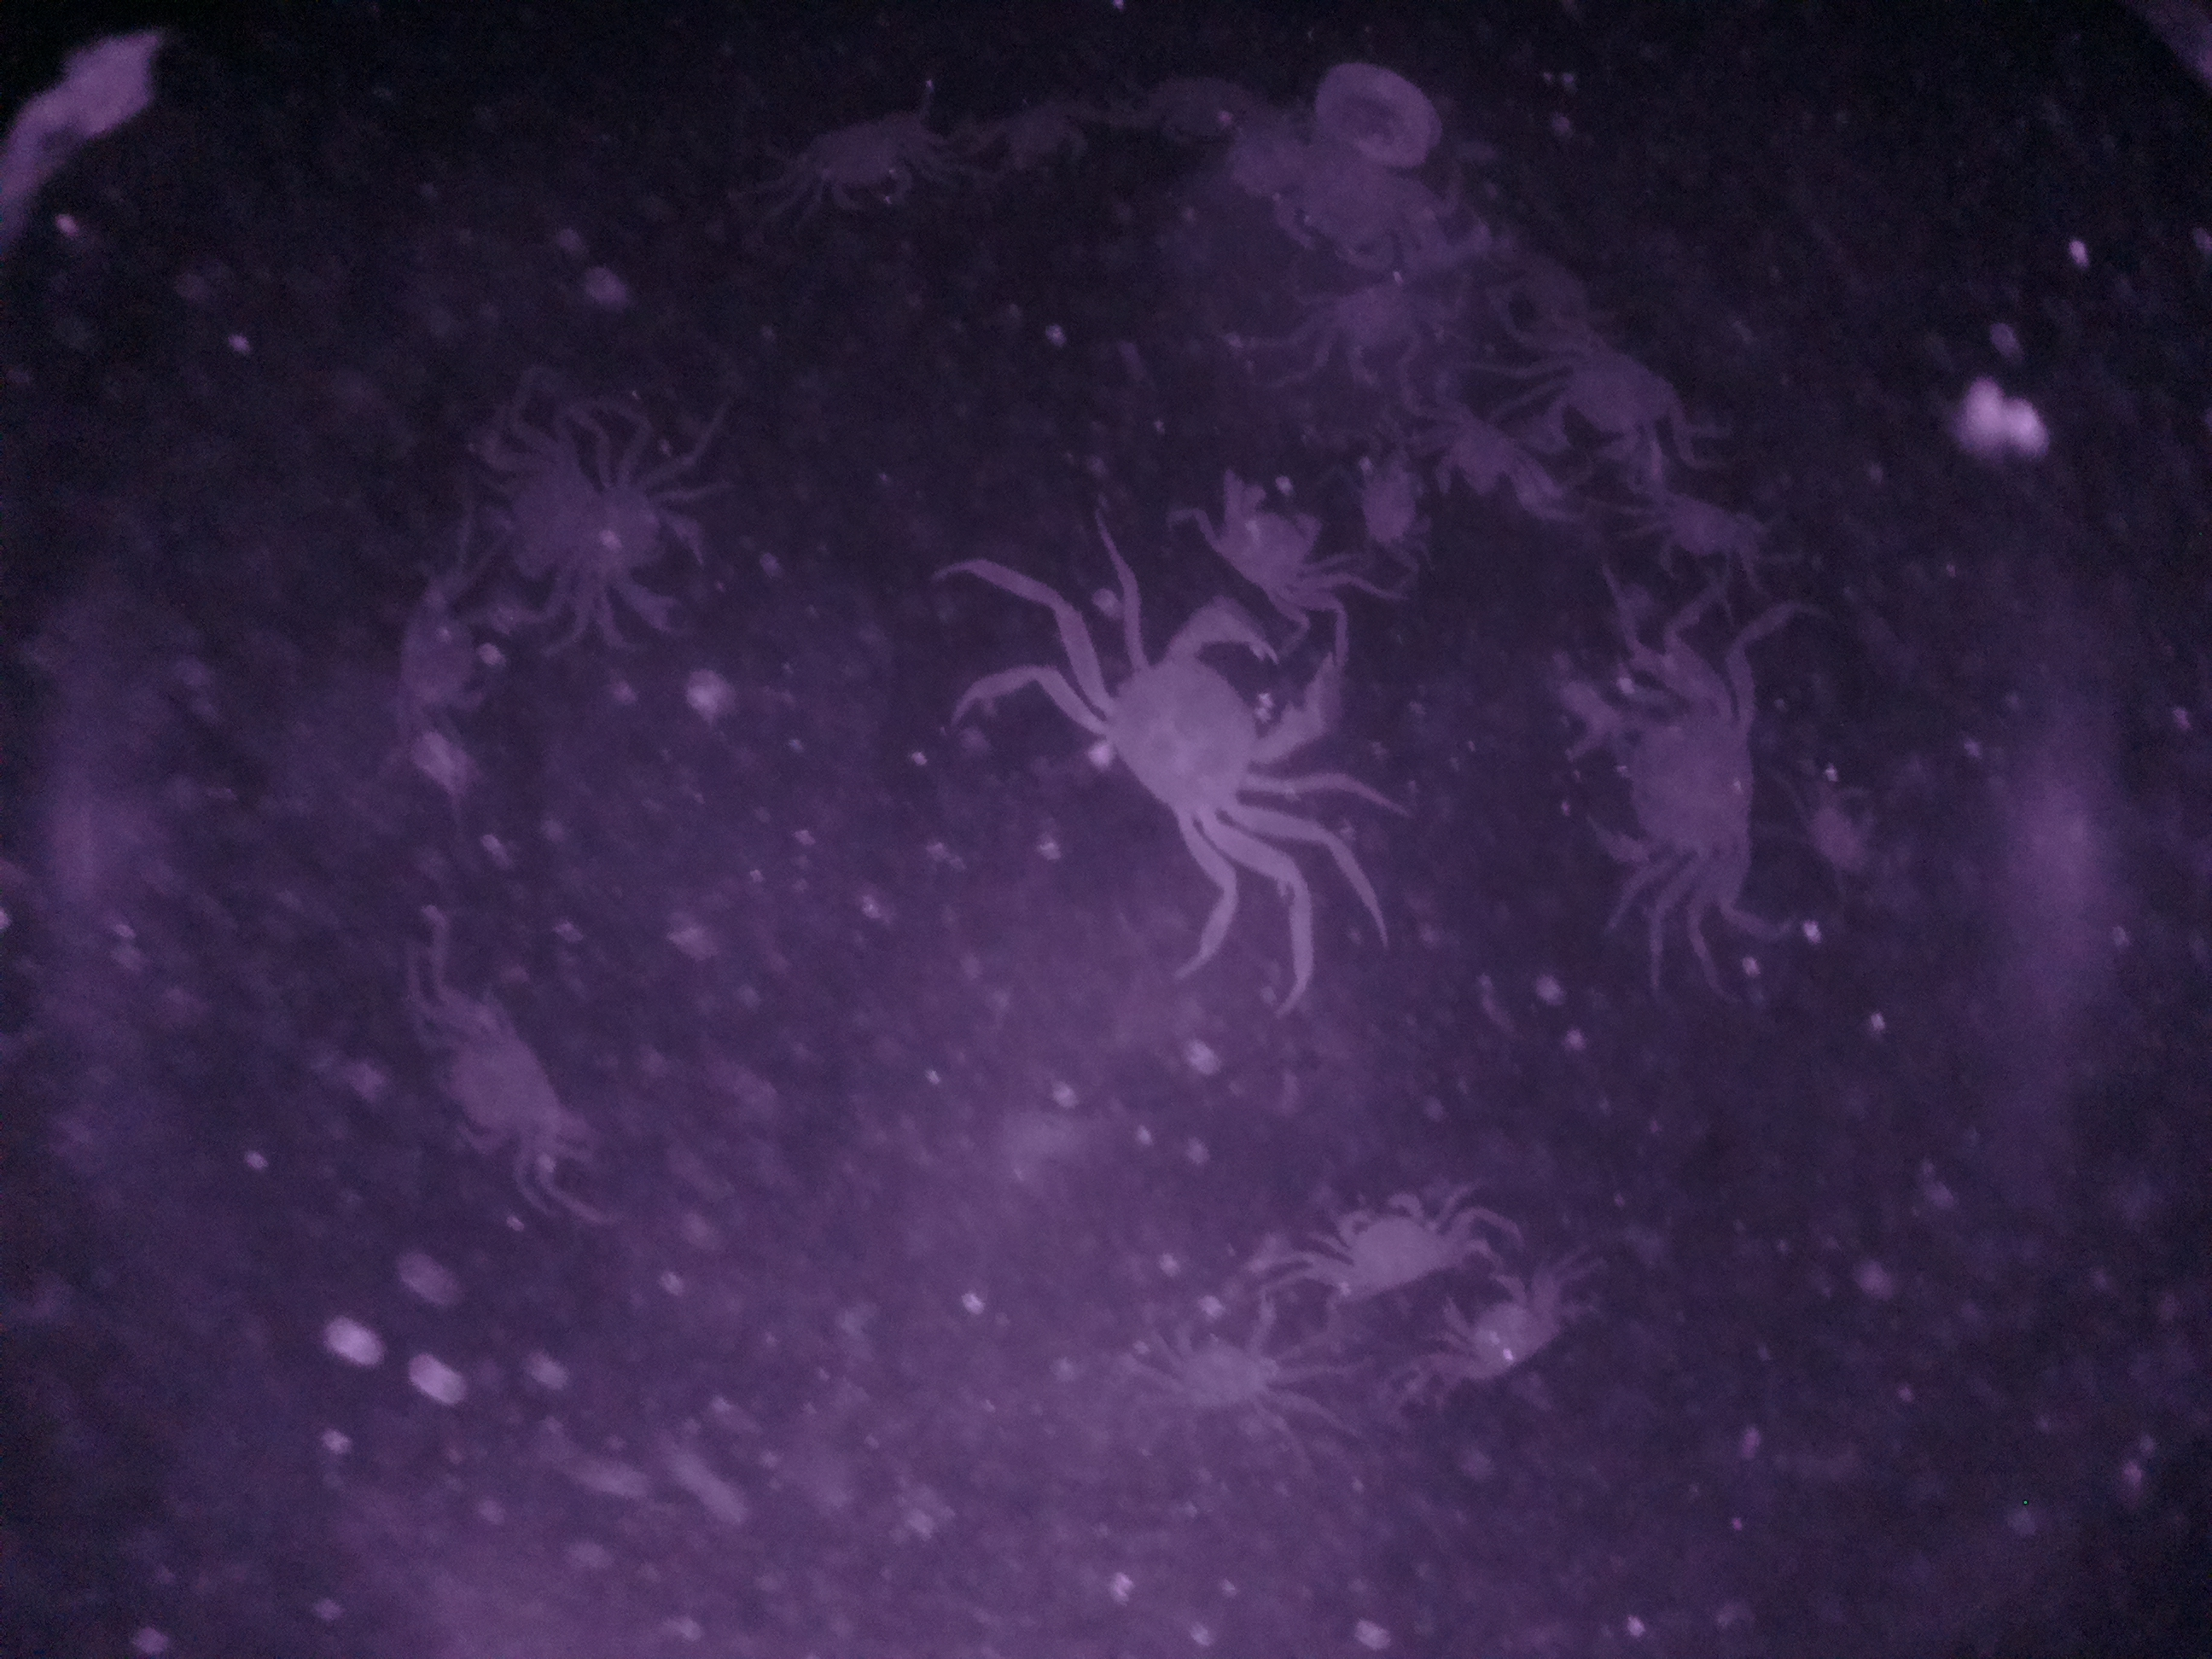Crab: (1052, 612, 1379, 915), (1569, 653, 1766, 943), (1198, 462, 1366, 640), (1514, 328, 1721, 469), (1420, 1244, 1573, 1412), (1289, 1187, 1480, 1309), (782, 99, 965, 221), (1294, 272, 1447, 406), (1635, 471, 1773, 591)
